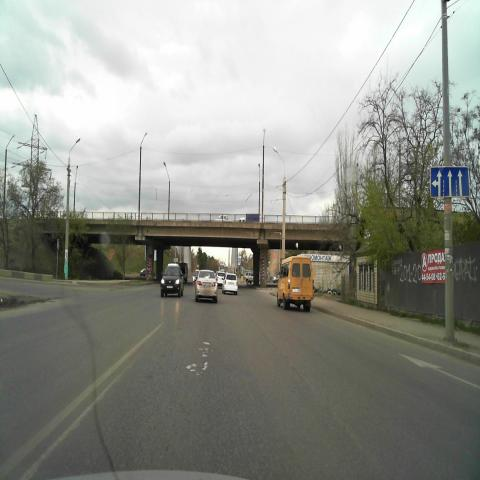5_15_1: (430, 166, 469, 196)
